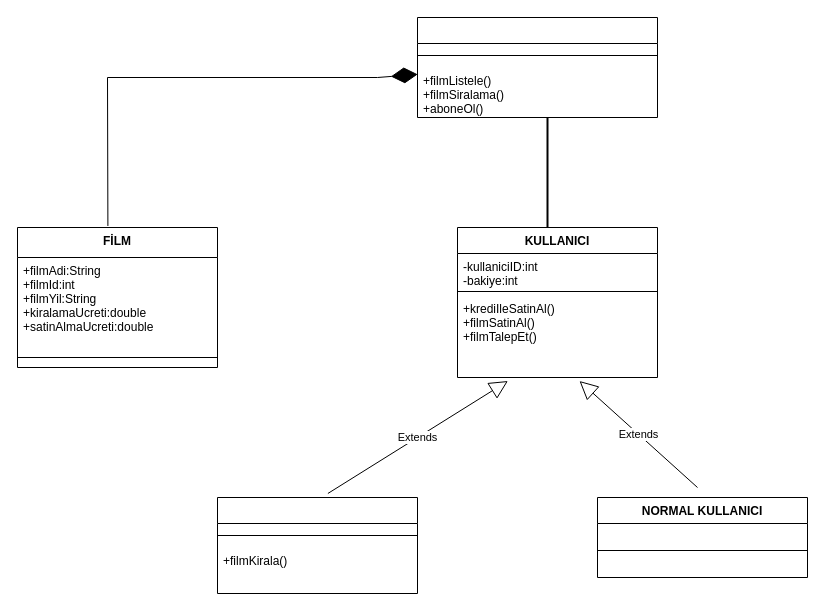
Some shapes in this 825 by 614 pixel diagram are drawn without their labels. The box of each missing label's shape, as (x1, y1, x2, y2) in pixels:
ABONE OL: (216, 496, 418, 594)
FİLM UYGULAMASI: (416, 16, 658, 118)
